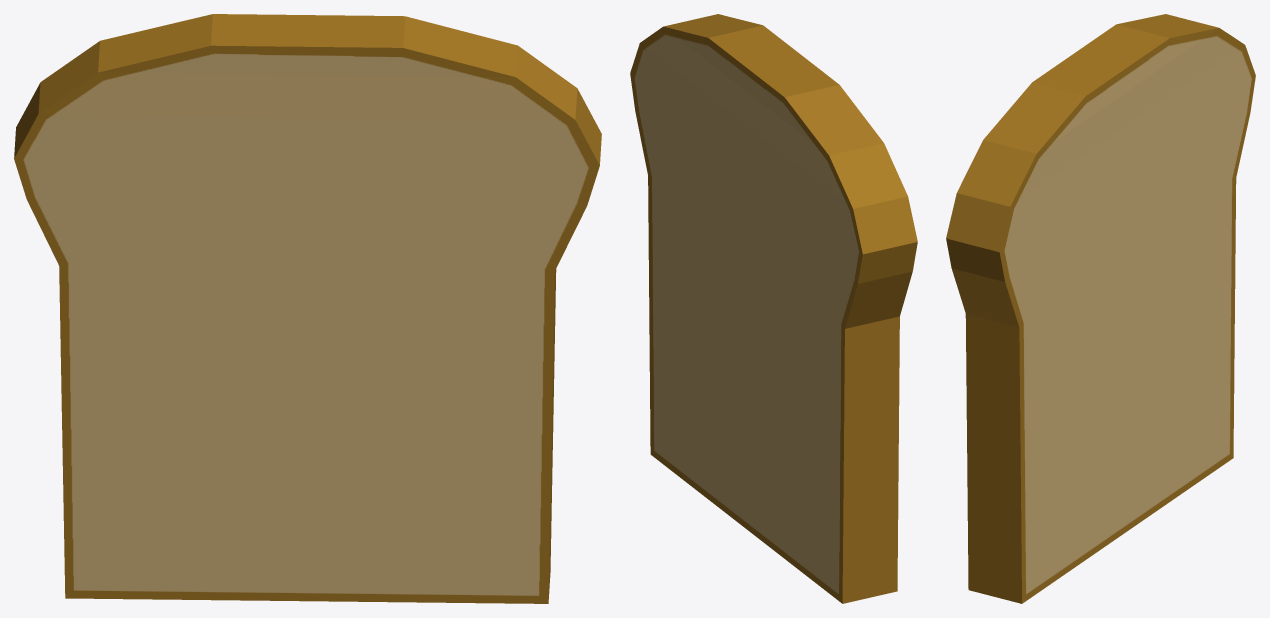
File: BreadDoor.fbx
3 views of the same model, side by side, from view 1: azimuth 30°, elevation 25°; view 2: azimuth 150°, elevation 25°; view 3: azimuth 270°, elevation 25° (orthographic). The views are drawn at different scales.
Parts seen in each view (by area): view 1: Cube.009; view 2: Cube.009; view 3: Cube.009.
Part boxes in pixels (bbox=[...]): Cube.009: bbox=[14, 14, 601, 603]; Cube.009: bbox=[630, 14, 917, 603]; Cube.009: bbox=[946, 14, 1255, 603].
Bounding box in the file's own units: 653 × 742 × 449.
Materials: 1 (1 with a texture image).
